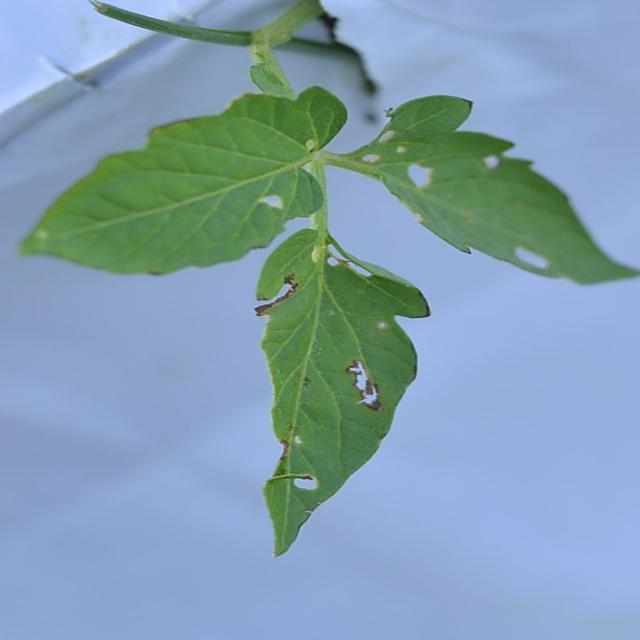infected: (246, 186, 396, 504), (347, 118, 576, 270)
